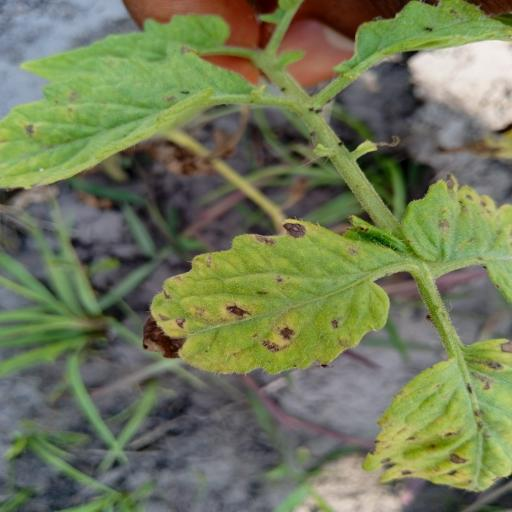Tomato_Brown_Spots: (140, 217, 408, 382), (0, 42, 273, 194), (365, 333, 512, 493), (399, 175, 512, 311)
